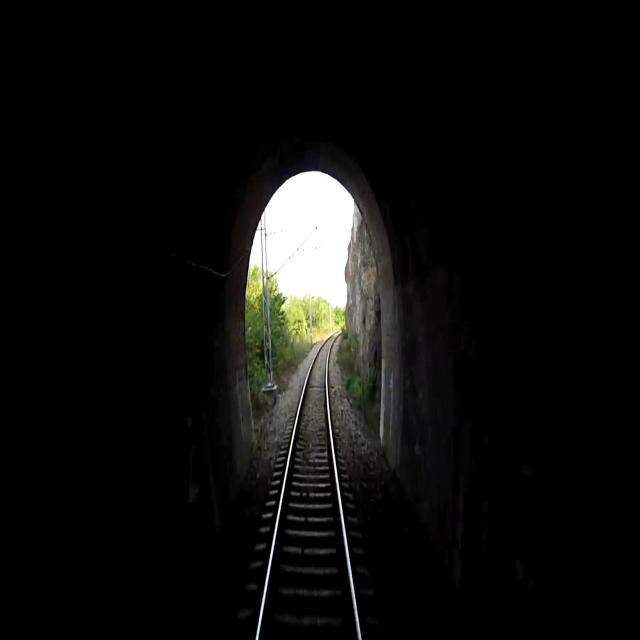rail-track: (259, 337, 356, 639)
